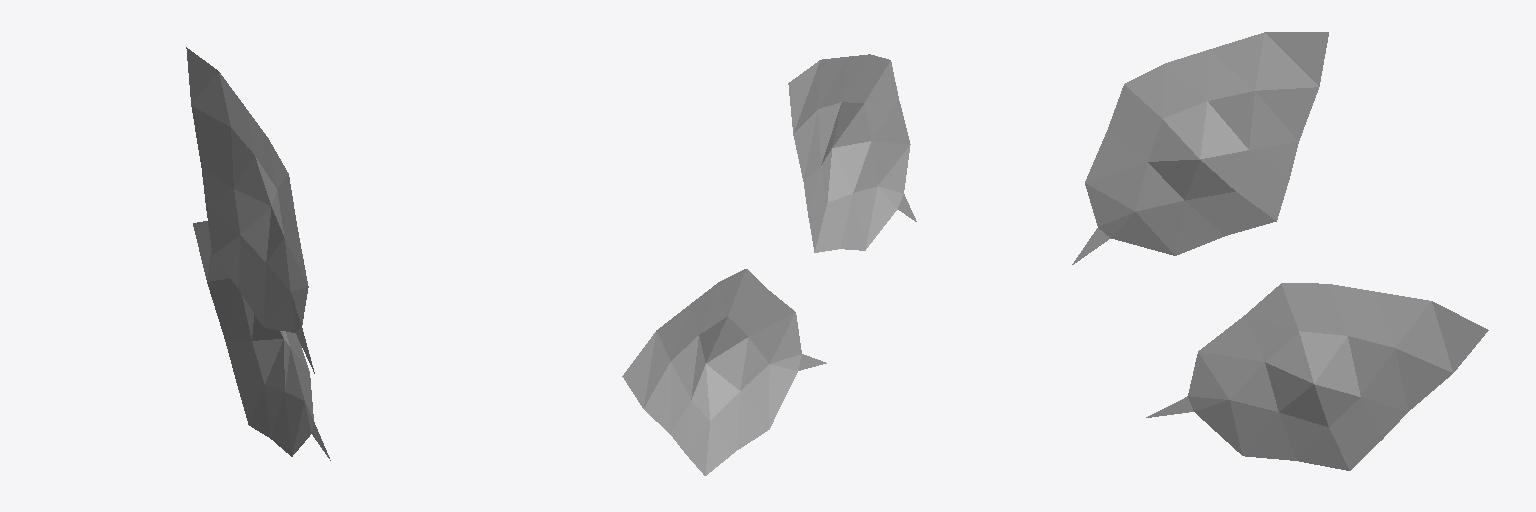
Rendered from leaf_2.obj.
The picture shows the model from 3 angles: view 1: azimuth 30°, elevation 25°; view 2: azimuth 150°, elevation 25°; view 3: azimuth 270°, elevation 25°; orthographic projection.
Visible parts, largest first — view 1: 평면, 평면.001; view 2: 평면.001, 평면; view 3: 평면, 평면.001.
Boxes of the visible parts, <box> form: 평면: <box>186,47,314,373</box>; 평면.001: <box>193,221,330,460</box>; 평면.001: <box>622,269,826,475</box>; 평면: <box>788,54,916,252</box>; 평면: <box>1072,32,1328,264</box>; 평면.001: <box>1146,283,1488,470</box>.
Size of the model in its own units: 0.1013 by 0.4343 by 0.4082.